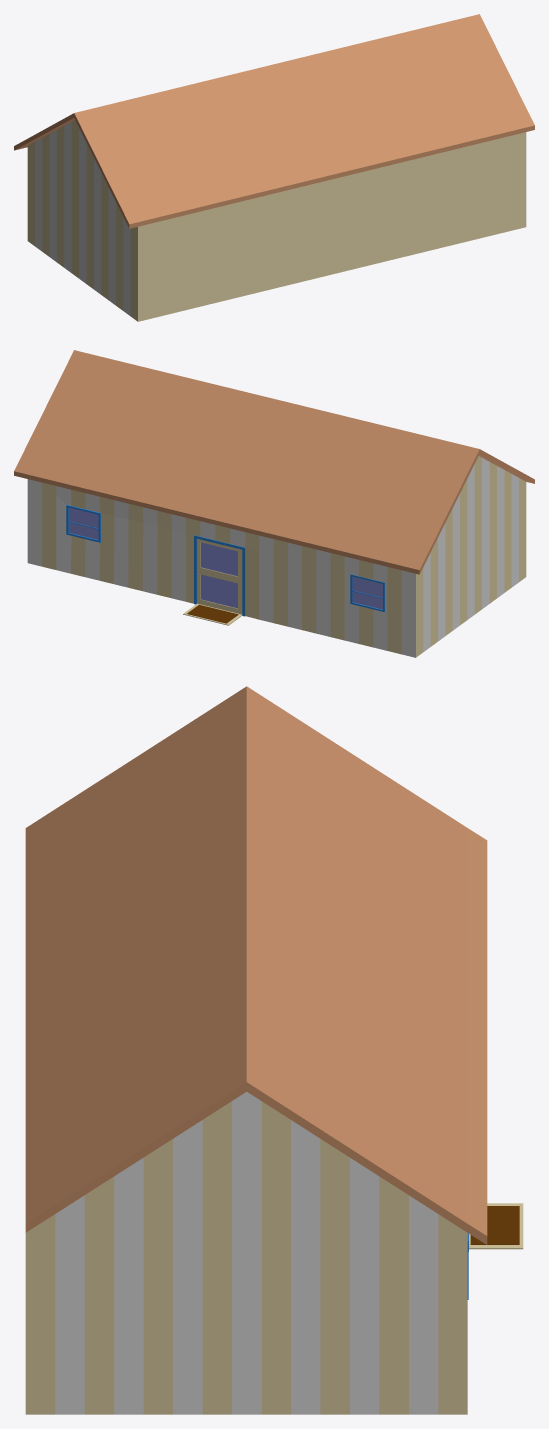
File: HouseVillage.fbx
The picture shows the model from 3 angles, top to bottom: view 1: azimuth 30°, elevation 25°; view 2: azimuth 150°, elevation 25°; view 3: azimuth 270°, elevation 25°; orthographic projection. The views are drawn at different scales.
Parts seen in each view (by area): view 1: Cube.002; view 2: Cube.002; view 3: Cube.002.
Part boxes in pixels (bbox=[...]): Cube.002: bbox=[14, 14, 534, 321]; Cube.002: bbox=[14, 350, 534, 657]; Cube.002: bbox=[25, 686, 523, 1414].
Bounding box in the file's own units: 10.88 × 4.37 × 5.78.
